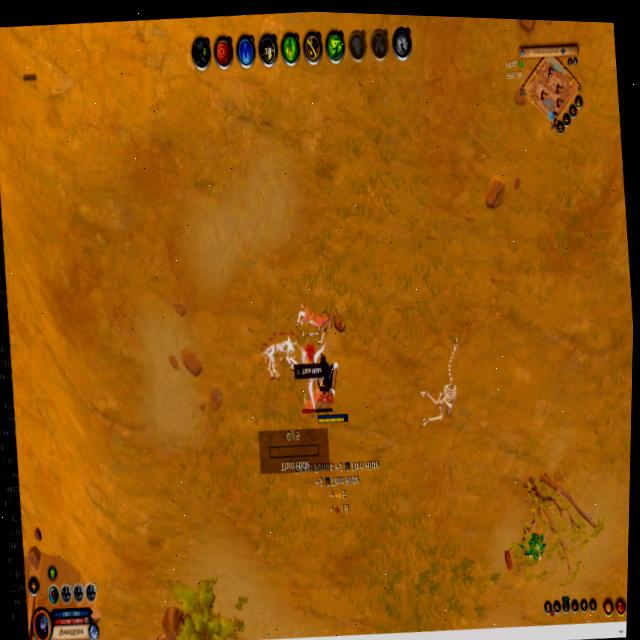hide: (524, 528, 546, 563)
mob: (293, 297, 346, 347)
ore: (298, 379, 334, 419)
red: (309, 347, 351, 429)
